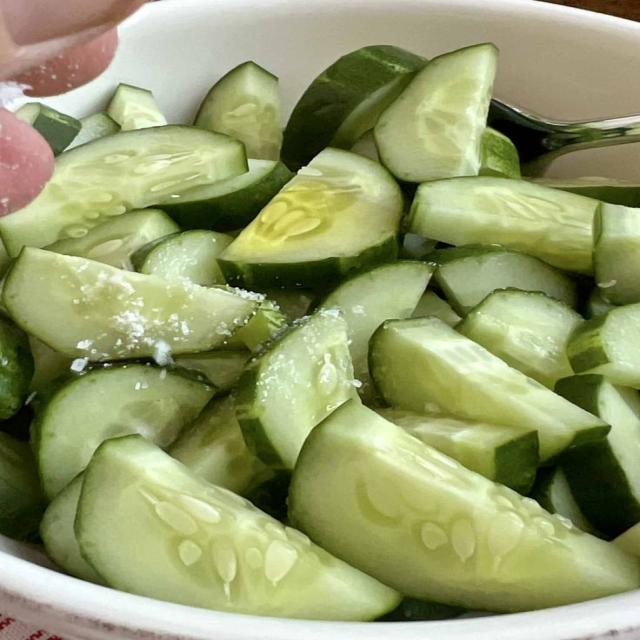cucumber sliced: (289, 402, 639, 611), (76, 436, 399, 620), (370, 318, 609, 461), (0, 126, 246, 256), (3, 248, 257, 360), (220, 149, 402, 288), (34, 365, 212, 498), (235, 310, 355, 469), (409, 177, 599, 272), (282, 46, 426, 169), (374, 44, 498, 182), (319, 261, 433, 392), (377, 410, 539, 493), (556, 376, 639, 535), (457, 290, 583, 388), (167, 397, 273, 494), (427, 246, 576, 315), (160, 159, 293, 231), (194, 61, 282, 160), (47, 209, 179, 270), (40, 475, 104, 583), (567, 304, 639, 388), (132, 230, 233, 286), (0, 432, 46, 539), (594, 204, 639, 305), (530, 468, 594, 533), (15, 103, 81, 155), (0, 316, 33, 420), (226, 300, 288, 351), (534, 177, 639, 207), (174, 351, 250, 391), (107, 84, 166, 131), (29, 336, 73, 393), (245, 472, 290, 522), (377, 598, 466, 621), (480, 127, 520, 178), (67, 112, 120, 149), (412, 291, 461, 326), (261, 289, 316, 320), (0, 403, 33, 442), (399, 233, 436, 260), (350, 130, 379, 162), (586, 288, 614, 319), (613, 524, 639, 556), (0, 239, 12, 277)
